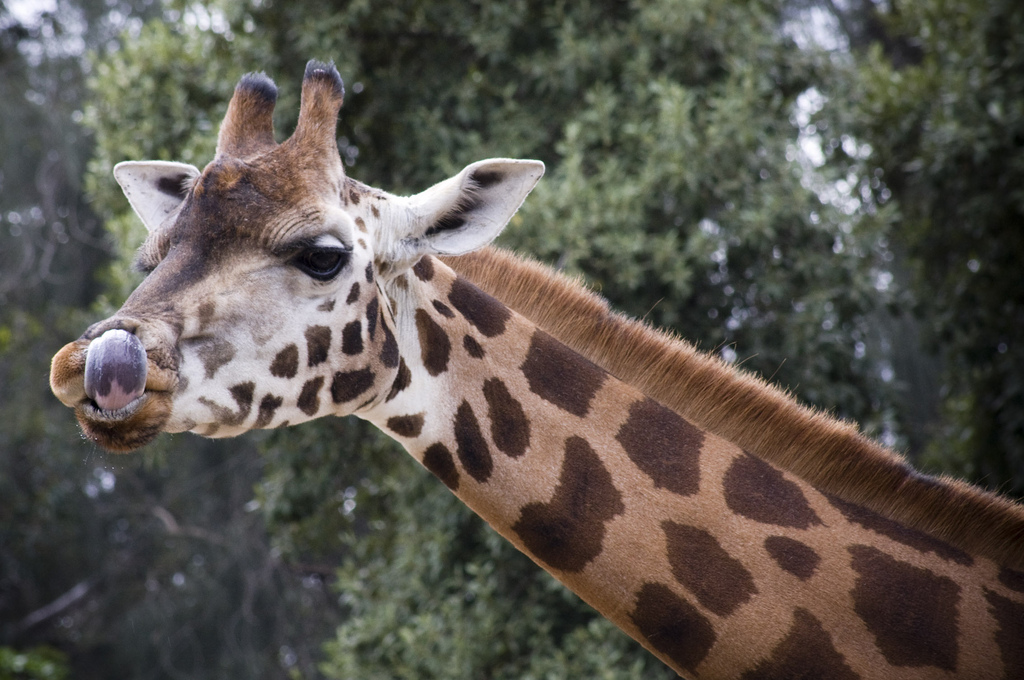giraffe: (43, 69, 940, 659)
